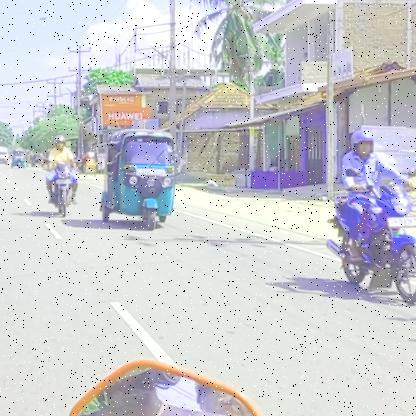motorcycle: (322, 183, 416, 308), (43, 162, 81, 220)
